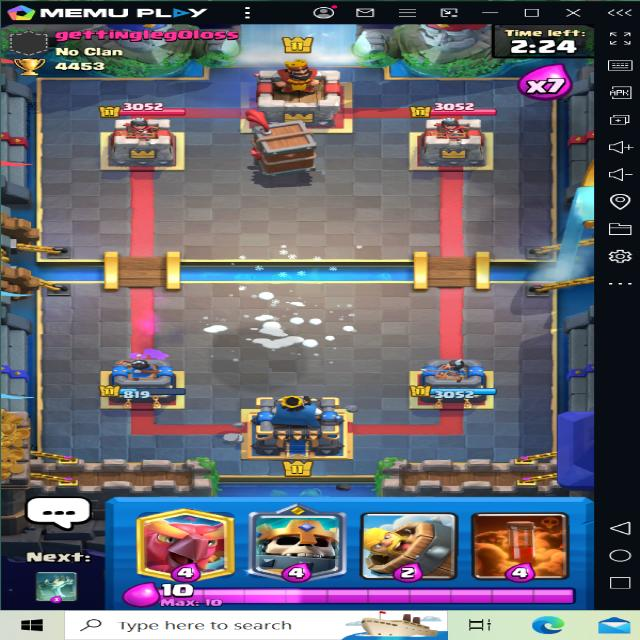royal-delivery: (246, 106, 325, 190)
